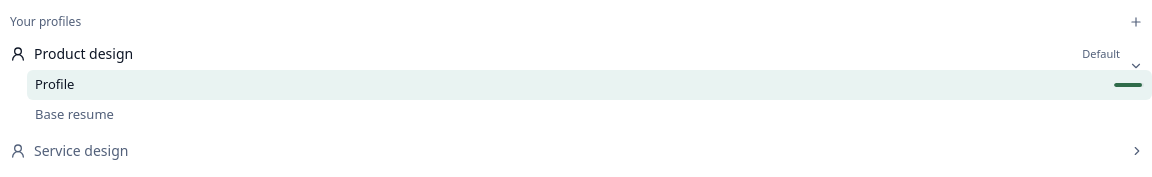
Test: SidebarProfiles (E27-5) › folds the open profile's pages, and remembers it
Click the button named "Hide Product design's pages".
click(1136, 66)  # box [1124,54,1148,78]
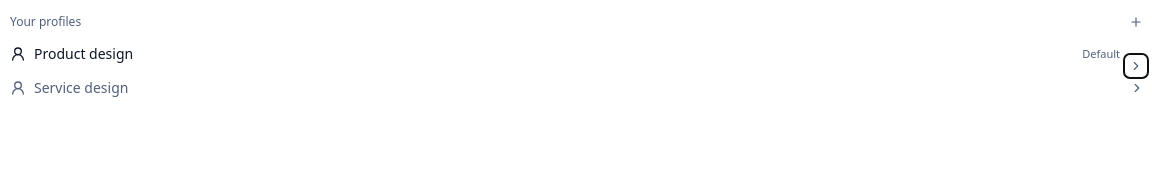
Expected: the link "Product design Default" is marked as current, [0,38,1151,70]
